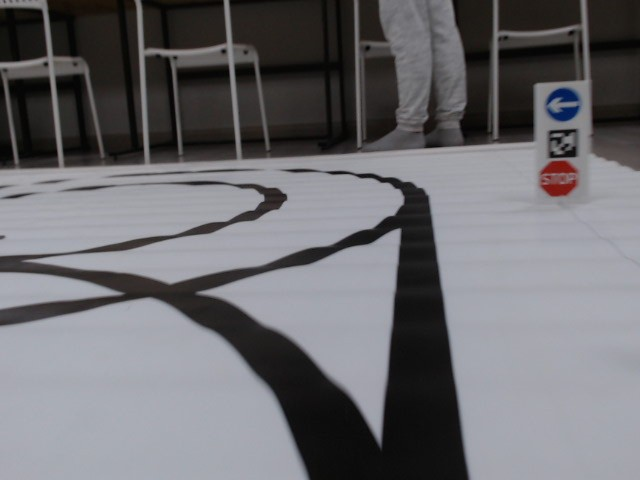Stop: (536, 159, 578, 195)
